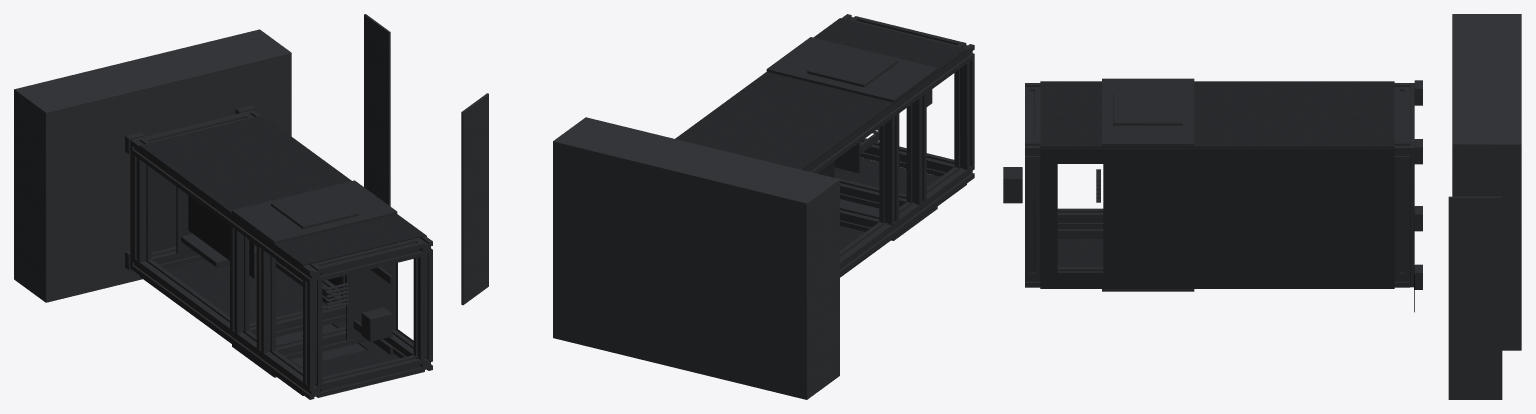
The picture shows the model from 3 angles, left to right: view 1: azimuth 30°, elevation 25°; view 2: azimuth 150°, elevation 25°; view 3: azimuth 270°, elevation 25°; orthographic projection. The views are drawn at different scales.
Visible parts, largest first — view 1: base_link__wr141e_lower_chassis, base_link__side_1_lower, base_link__front_grille, base_link__post_-0.16000000000000003_-0.09000000000000001, base_link__arm_bridge_1, base_link__side_1_upper, base_link__side_-1_lower, base_link__post_-0.16000000000000003_0.09000000000000001, base_link__chassis_adapter, base_link__camera_shelf, base_link__rail_y_3_-1, base_link__rail_y_3_1 (+17 smaller); view 2: base_link__wr141e_lower_chassis, base_link__side_1_lower, base_link__front_grille, base_link__arm_bridge_1, base_link__side_1_upper, base_link__post_-0.16000000000000003_-0.09000000000000001, base_link__post_-0.16000000000000003_0.09000000000000001, base_link__rail_y_1_-1, base_link__rail_y_3_-1, base_link__rail_y_2_-1, base_link__arm_flange_1, base_link__side_-1_upper (+6 smaller); view 3: base_link__front_door_lower, base_link__wr141e_lower_chassis, base_link__side_1_lower, base_link__front_grille, base_link__arm_bridge_1, base_link__side_1_upper, base_link__front_door_upper, base_link__arm_flange_1, base_link__rail_y_0_1, base_link__rail_y_3_1, base_link__side_-1_upper, base_link__chassis_adapter (+9 smaller).
Part boxes in pixels (x1,y1,x2,y2): base_link__wr141e_lower_chassis: (14, 29, 291, 302); base_link__side_1_lower: (139, 115, 351, 214); base_link__front_grille: (364, 14, 390, 206); base_link__post_-0.16000000000000003_-0.09000000000000001: (132, 257, 322, 399); base_link__arm_bridge_1: (232, 180, 397, 243); base_link__side_1_upper: (272, 214, 425, 265); base_link__side_-1_lower: (139, 257, 325, 344); base_link__post_-0.16000000000000003_0.09000000000000001: (132, 138, 322, 283); base_link__chassis_adapter: (130, 110, 254, 269); base_link__camera_shelf: (346, 263, 395, 340); base_link__rail_y_3_-1: (303, 279, 322, 386); base_link__rail_y_3_1: (413, 254, 432, 359); base_link__wr141e_lower_chassis: (553, 117, 839, 399); base_link__side_1_lower: (675, 72, 895, 169); base_link__front_grille: (461, 93, 488, 305); base_link__arm_bridge_1: (766, 37, 937, 102); base_link__side_1_upper: (813, 18, 966, 72); base_link__post_-0.16000000000000003_-0.09000000000000001: (840, 165, 974, 275); base_link__post_-0.16000000000000003_0.09000000000000001: (803, 42, 974, 173); base_link__rail_y_1_-1: (879, 113, 899, 224); base_link__rail_y_3_-1: (954, 58, 974, 169); base_link__rail_y_2_-1: (906, 93, 926, 204); base_link__arm_flange_1: (807, 47, 897, 87); base_link__side_-1_upper: (834, 157, 966, 207); base_link__front_door_lower: (1103, 148, 1394, 288); base_link__wr141e_lower_chassis: (1452, 14, 1521, 350); base_link__side_1_lower: (1190, 81, 1394, 147); base_link__front_grille: (1448, 196, 1502, 399); base_link__arm_bridge_1: (1102, 78, 1194, 146); base_link__side_1_upper: (1040, 81, 1105, 147); base_link__front_door_upper: (1040, 148, 1057, 288); base_link__arm_flange_1: (1113, 94, 1182, 125); base_link__rail_y_0_1: (1394, 162, 1409, 273); base_link__rail_y_3_1: (1025, 162, 1040, 273); base_link__side_-1_upper: (1040, 229, 1105, 288); base_link__chassis_adapter: (1410, 83, 1414, 287).
Bounding box in the file's own units: 0.558 × 0.296 × 0.673.
4 materials, 3 textured.
